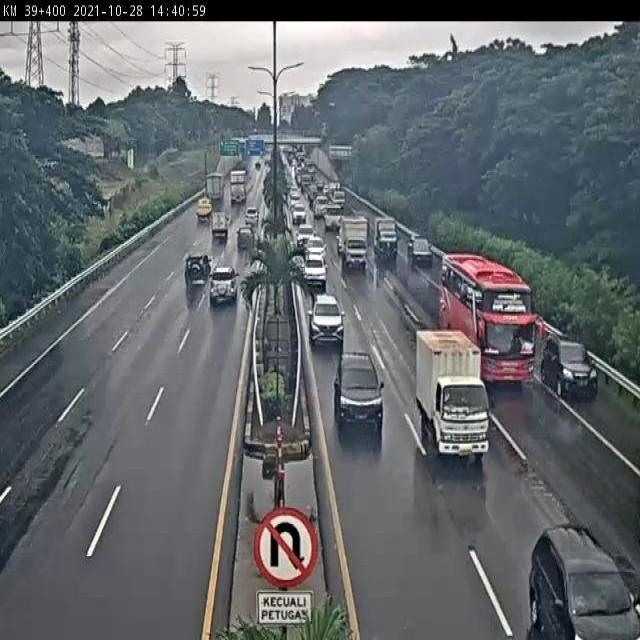big bus: (441, 252, 538, 385)
car: (540, 332, 599, 399), (334, 349, 384, 427), (306, 291, 344, 341), (208, 264, 239, 304), (184, 252, 212, 285), (303, 252, 327, 288)
mid truck: (414, 328, 491, 461)
